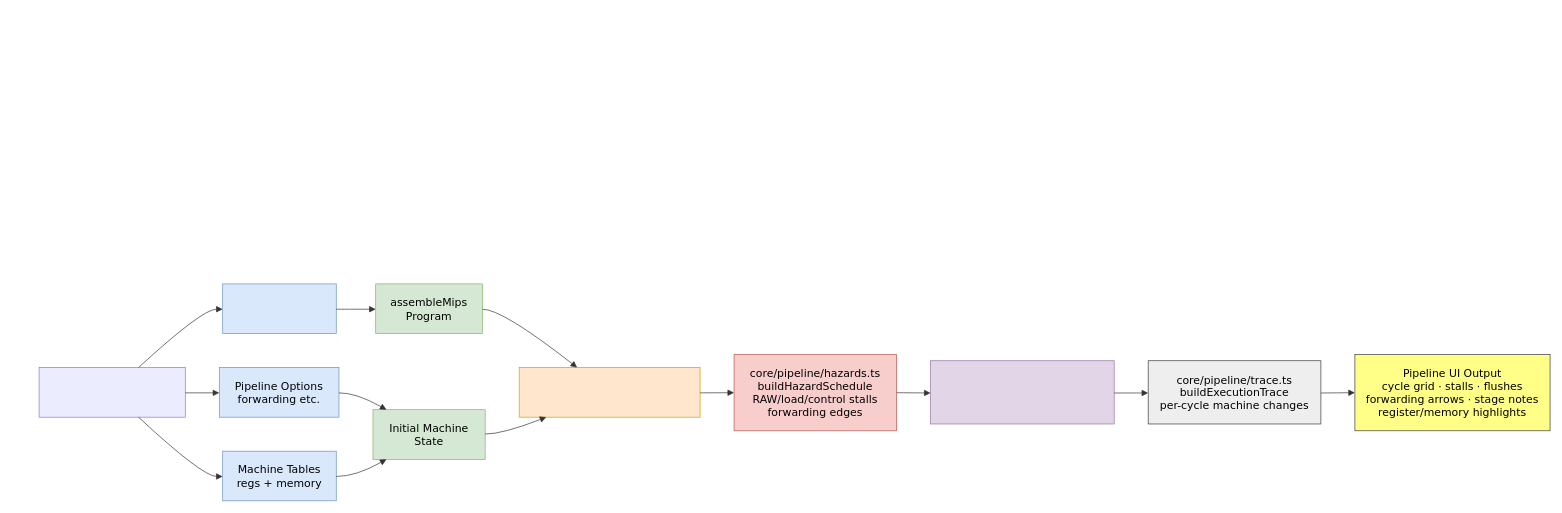
Image size: 1562x513. Some labels were removed from this diagram. Here are the shapes that lost their labels. From the top down, the centre of each, then its label:
the point at 279,308: Program Editor presets/source
the point at 111,392: Pipeline Page src/features/pipeline
the point at 609,392: Schedule Inputs instructions · fields · options
the point at 1022,392: core/pipeline/schedule.ts IF · ID · EX · MEM · WB stages stageAtCycle
